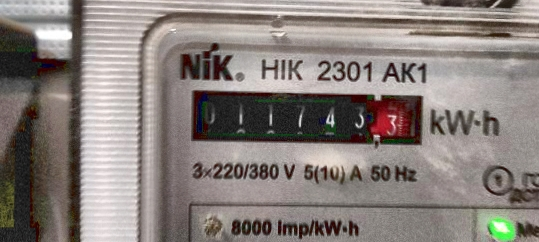0: (202, 99, 216, 127)
1: (263, 99, 275, 127), (234, 99, 244, 126)
3: (352, 103, 366, 130), (383, 112, 397, 137)
4: (322, 103, 336, 130)
7: (292, 99, 307, 128)
screen: (180, 79, 433, 156)
